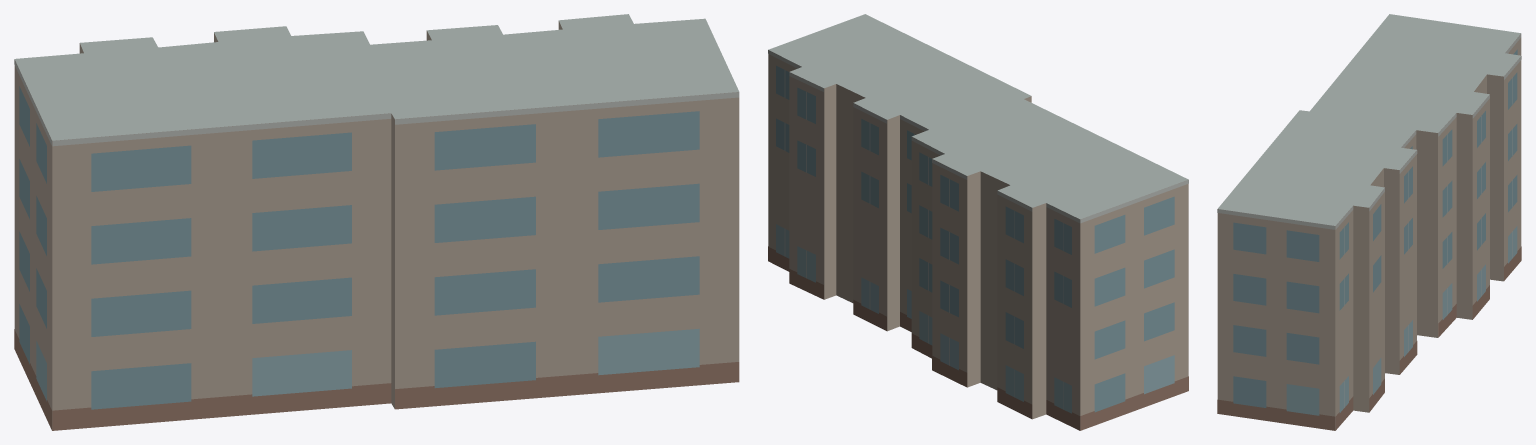
Rendered from survey-upis-32710389.glb.
3 views of the same model, side by side, from view 1: azimuth 30°, elevation 25°; view 2: azimuth 150°, elevation 25°; view 3: azimuth 270°, elevation 25° (orthographic). The views are drawn at different scales.
Parts seen in each view (by area): view 1: survey-upis-32710389.tmp; view 2: survey-upis-32710389.tmp; view 3: survey-upis-32710389.tmp.
Boxes of the visible parts, bbox=[...] form: survey-upis-32710389.tmp: bbox=[14, 14, 739, 430]; survey-upis-32710389.tmp: bbox=[768, 14, 1188, 430]; survey-upis-32710389.tmp: bbox=[1217, 14, 1521, 430].
Bounding box in the file's own units: 28.19 × 12.7 × 17.09.
